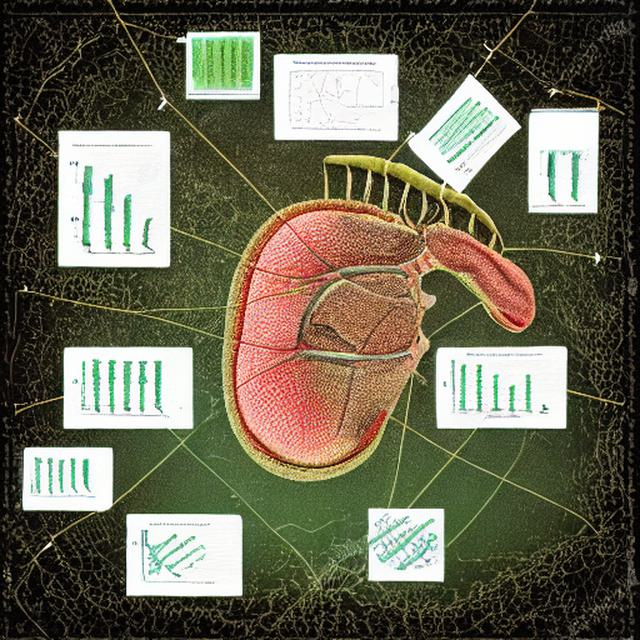Graph: (439, 351, 554, 421), (335, 67, 389, 108)
